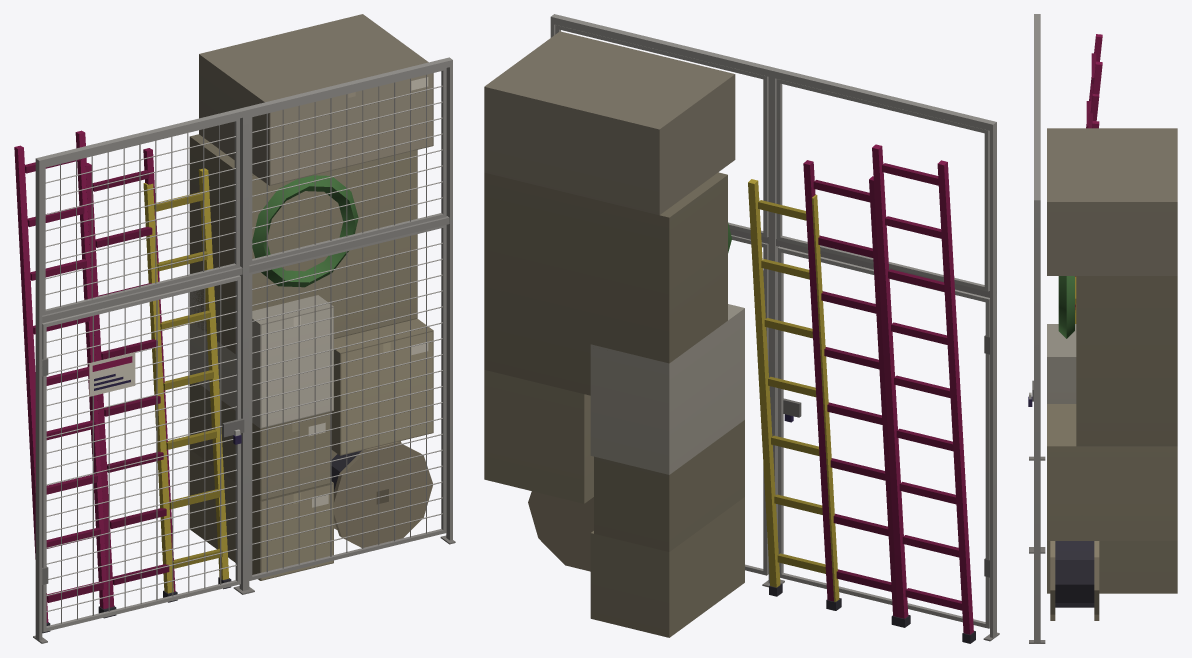
File: parts_cage_b.glb
The picture shows the model from 3 angles, left to right: view 1: azimuth 30°, elevation 25°; view 2: azimuth 150°, elevation 25°; view 3: azimuth 270°, elevation 25°; orthographic projection. The views are drawn at different scales.
Parts seen in each view (by area): view 1: parts_cage; view 2: parts_cage; view 3: parts_cage.
Boxes of the visible parts, x1,y1,x2,y2 form: parts_cage: (14,14,455,643); parts_cage: (484,14,999,643); parts_cage: (1028,14,1177,643).
Bounding box in the file's own units: 2.7 × 3 × 0.915.
